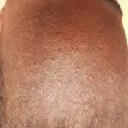Measles: (16, 17, 119, 125)
